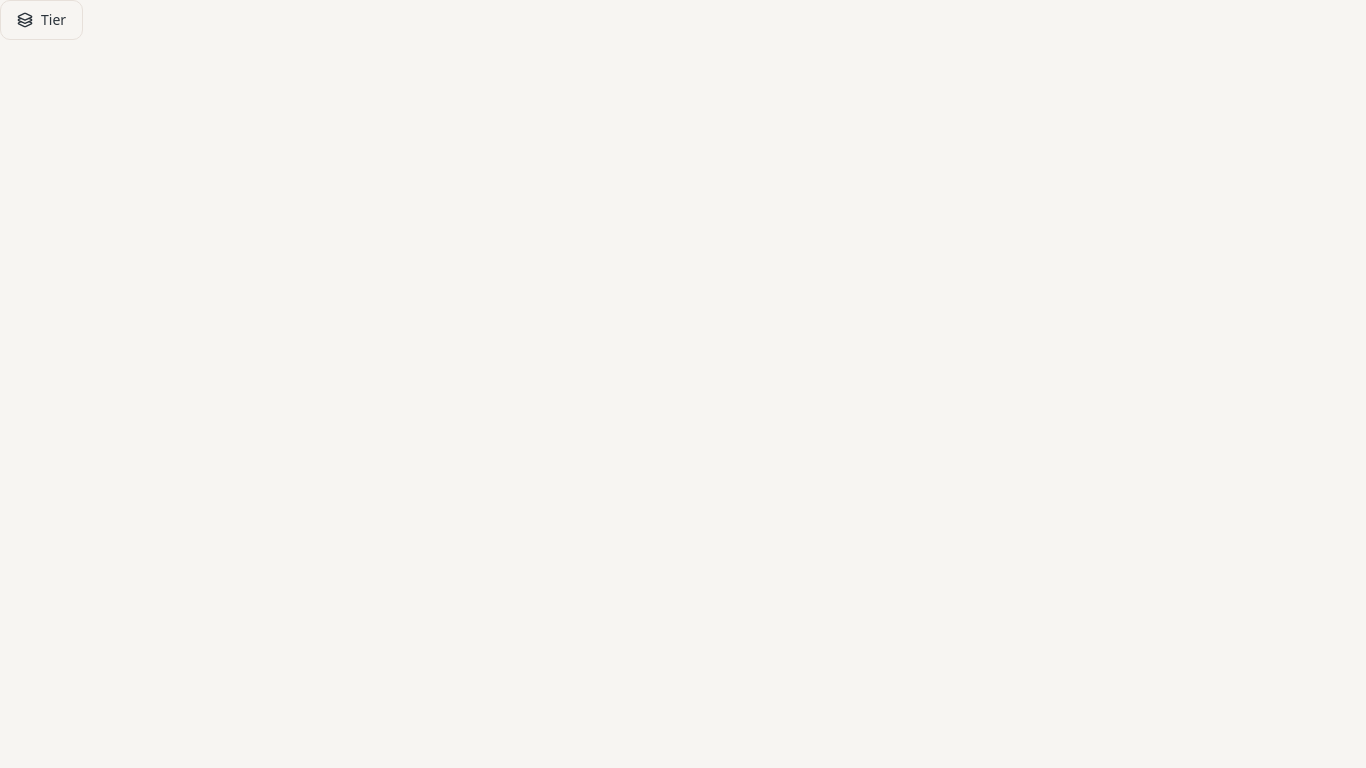
Test: requires confirmation for tier deletion and protects the original group anchor
Later steps or results of the test are not shown.
Click the button "Tier".
click(42, 20)  # box [0,0,83,40]
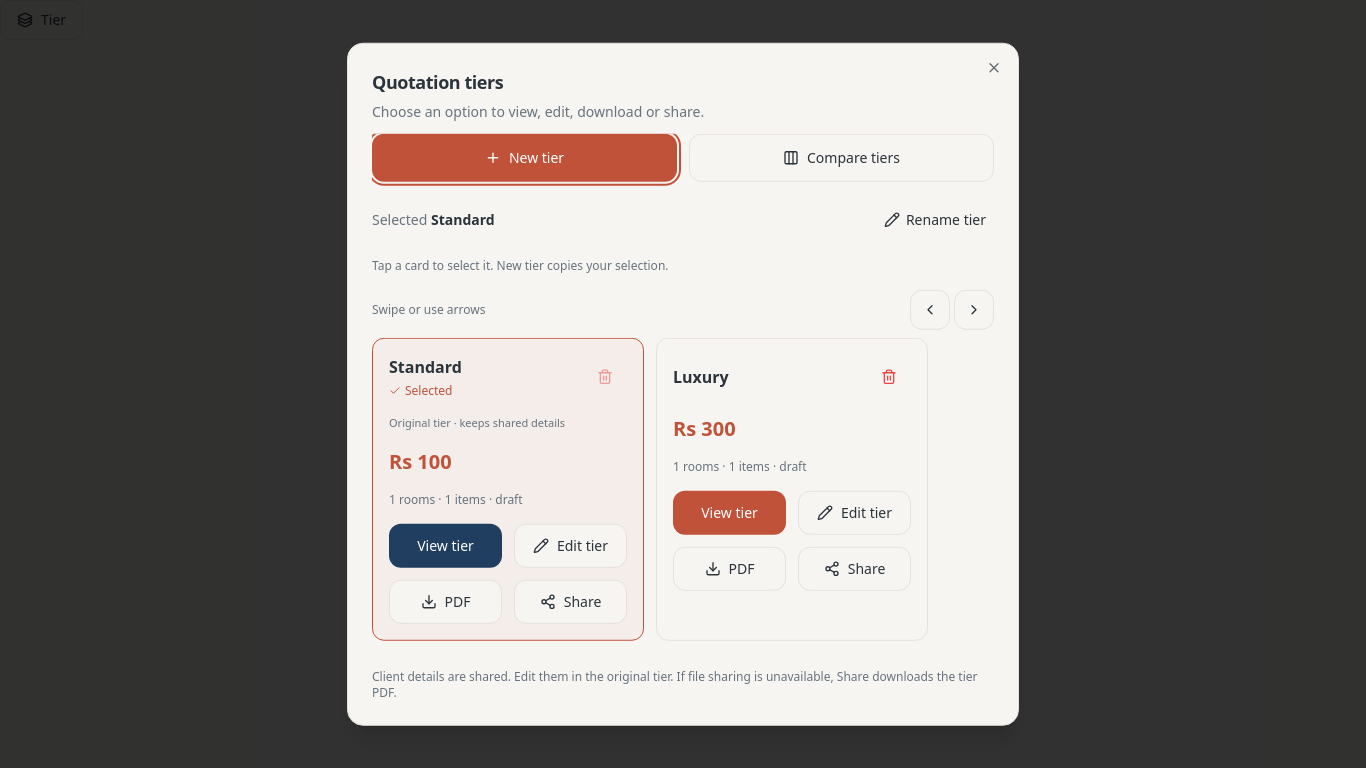
Result: the button named "Delete Standard tier" is disabled at [583,355,627,399]
Click the button named "Delete Luxury tier".
click(889, 377)  # box [867,355,911,399]
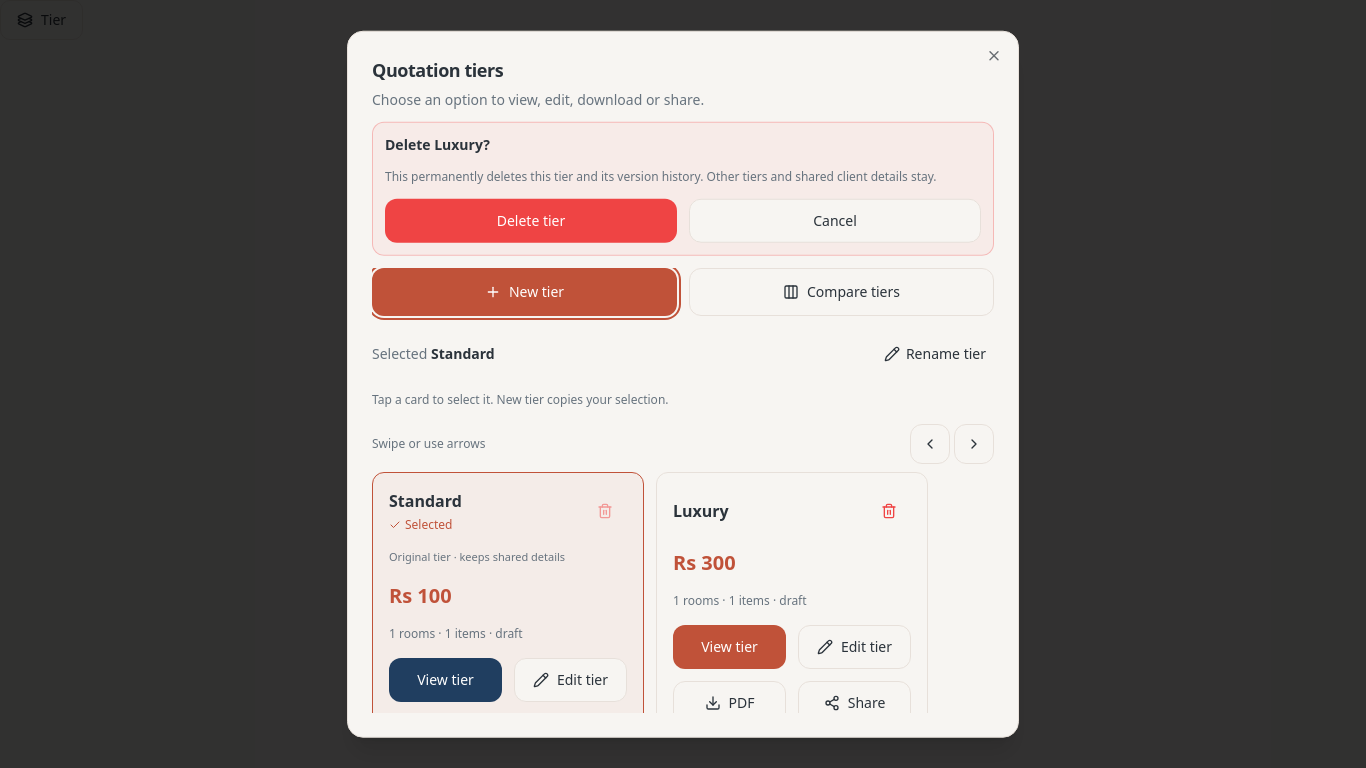
Result: the element named "Confirm tier deletion" shows "Other tiers and shared client details stay." at [385,168,937,185]
